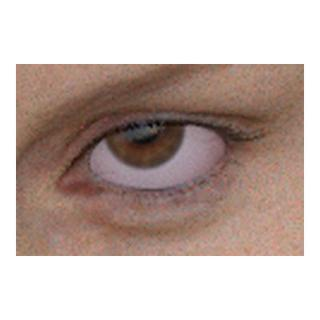pupil: (128, 112, 158, 142)
